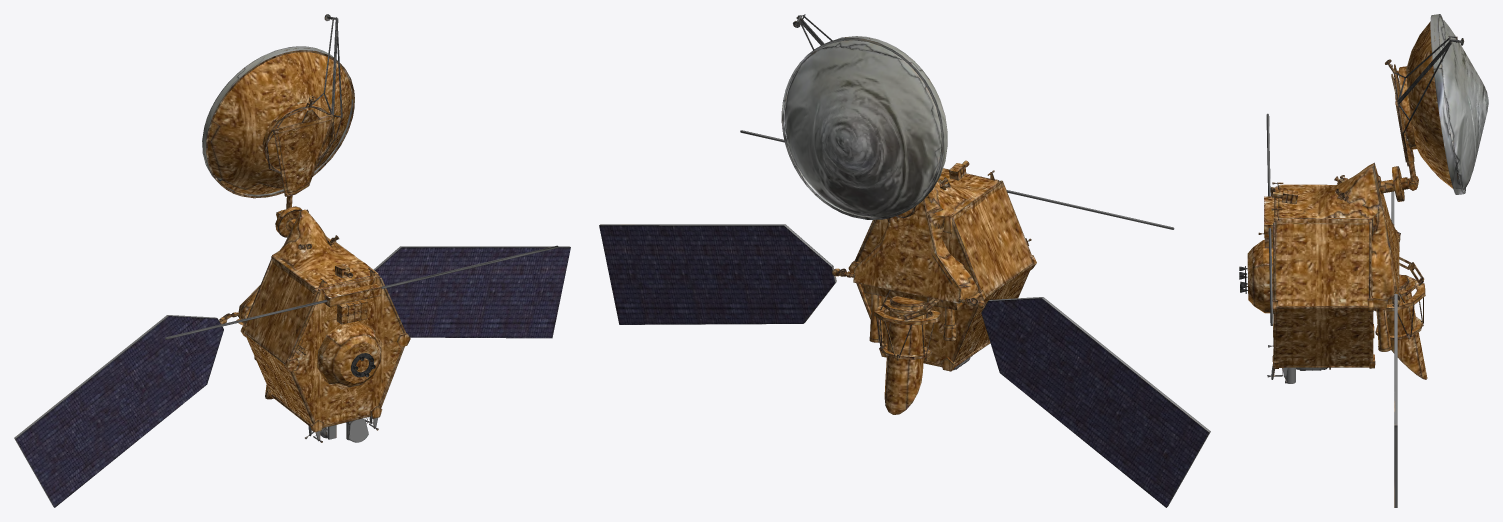
The model's file is mro_lod0.glb.
3 views of the same model, side by side, from view 1: azimuth 30°, elevation 25°; view 2: azimuth 150°, elevation 25°; view 3: azimuth 270°, elevation 25° (orthographic). The views are drawn at different scales.
Parts seen in each view (by area): view 1: mro_lod0; view 2: mro_lod0; view 3: mro_lod0.
Boxes of the visible parts, left/top/right/bottom form: mro_lod0: left=14, top=14, right=570, bottom=507; mro_lod0: left=599, top=14, right=1210, bottom=507; mro_lod0: left=1239, top=14, right=1488, bottom=507.
Bounding box in the file's own units: 11.28 × 7.67 × 4.12.
Materials: 2 (2 with a texture image).
